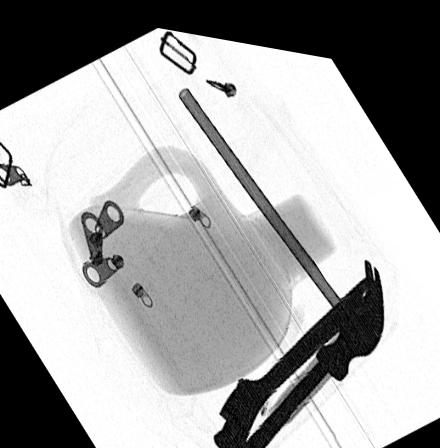Hammer: (173, 77, 381, 367)
Pliers: (226, 301, 380, 448)
Wrench: (211, 258, 380, 448)
